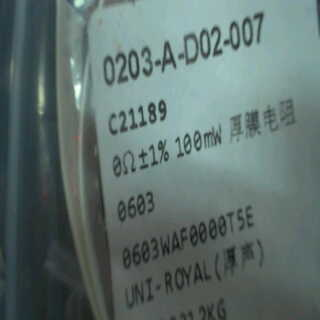0R: (112, 121, 224, 221)
